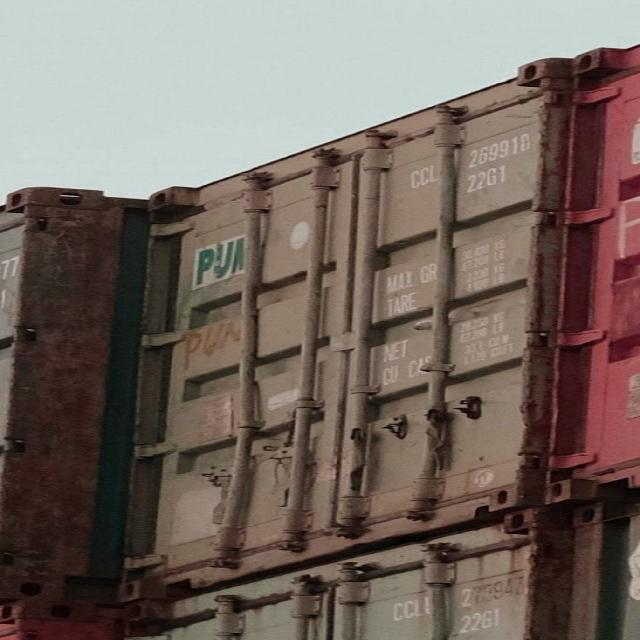ISO: (462, 160, 516, 201)
container_number: (408, 119, 534, 183)
